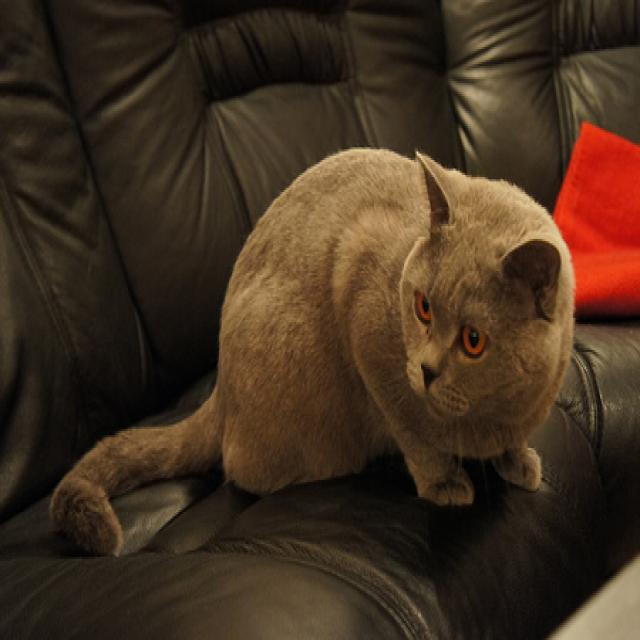British Shorthair: (46, 138, 579, 564)
